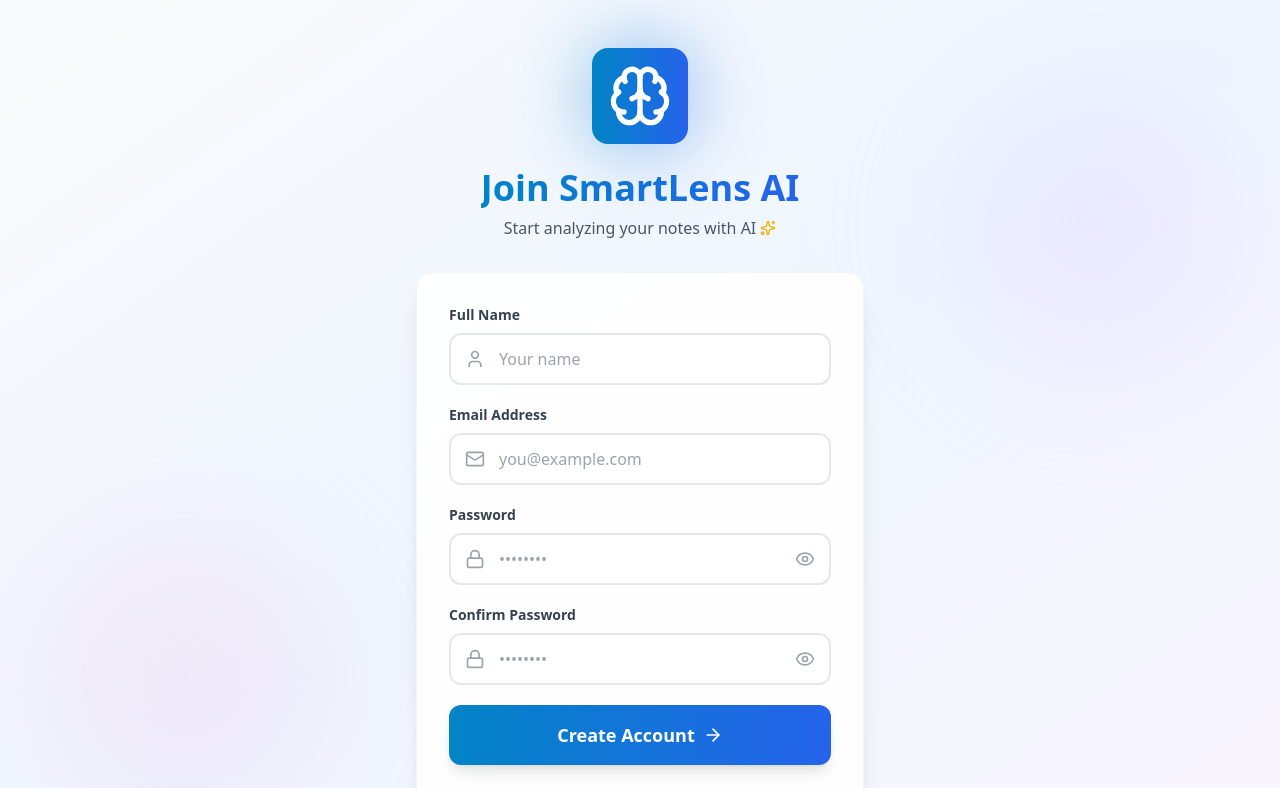
it: Signup Component › Form Validation › should show error when passwords do not match
Type "John Doe" into the field labelled "Full Name". click: (640, 359)
box: [449,333,831,385]
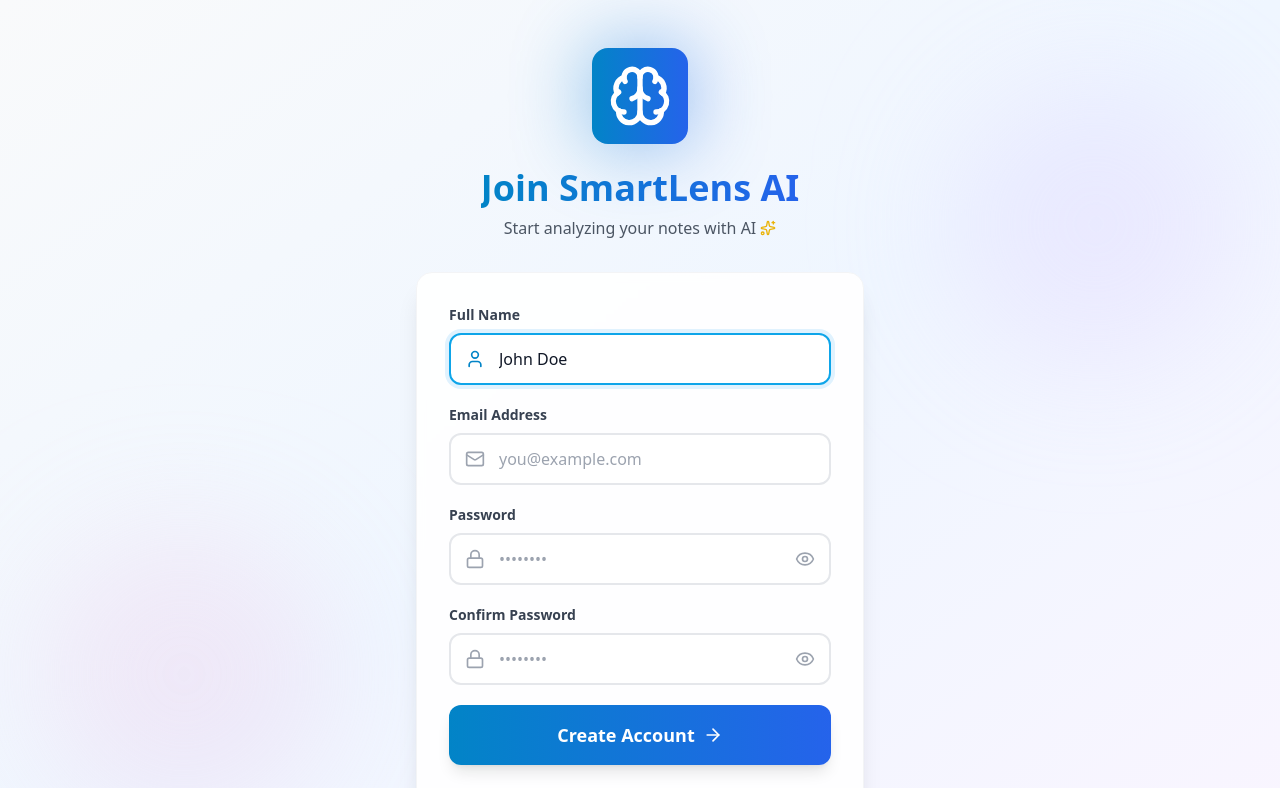
Type "test@example.com" into the field labelled "Email Address". click: (640, 459)
box: [449,433,831,485]
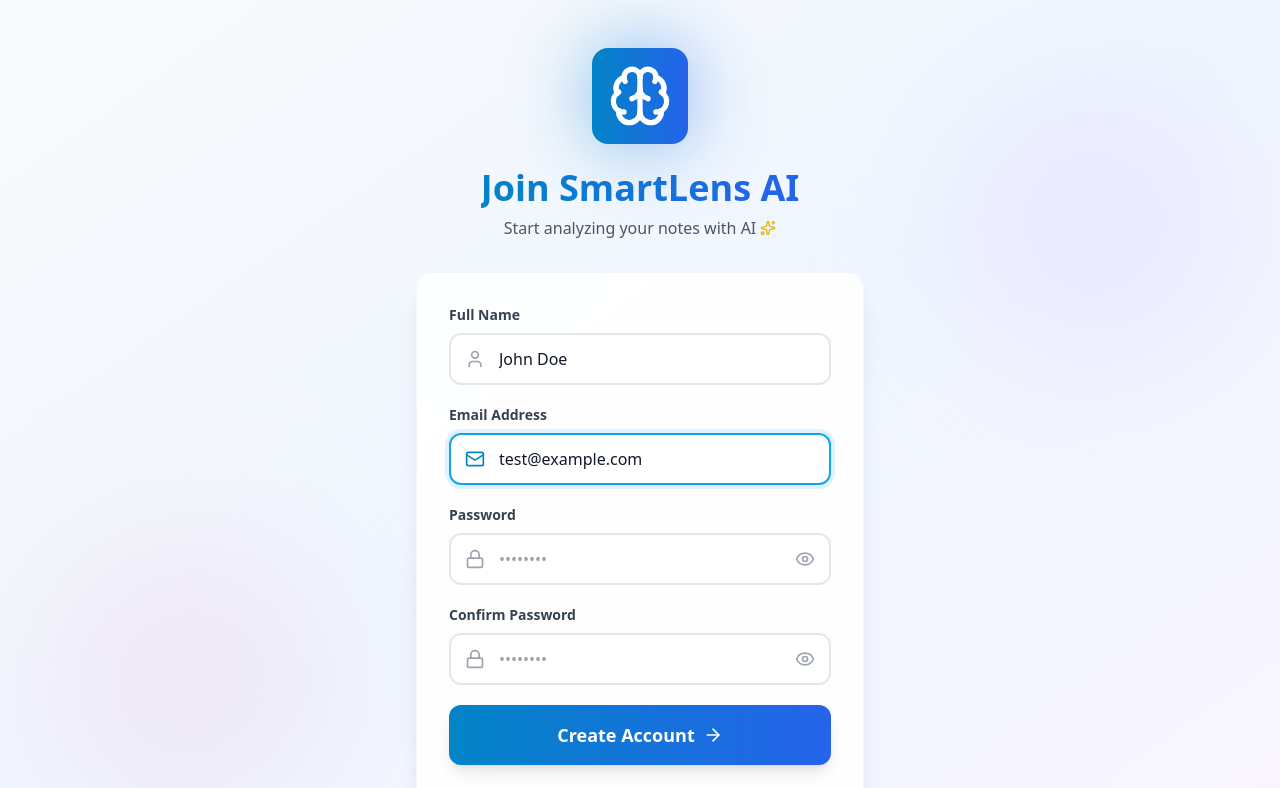
Type "password123" into the password field labelled "Password". click: (640, 559)
box: [449,533,831,585]
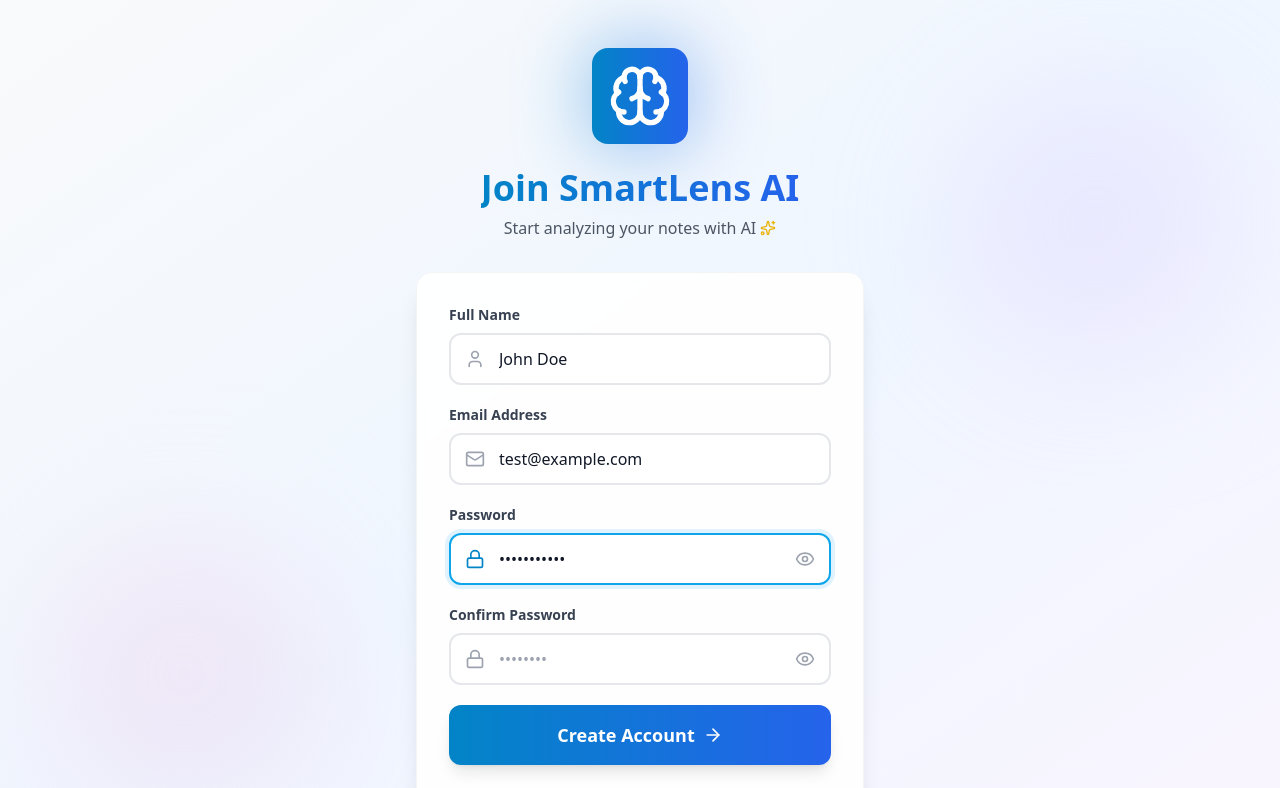
Type "different" into the password field labelled "Confirm Password". click: (640, 659)
box: [449,633,831,685]
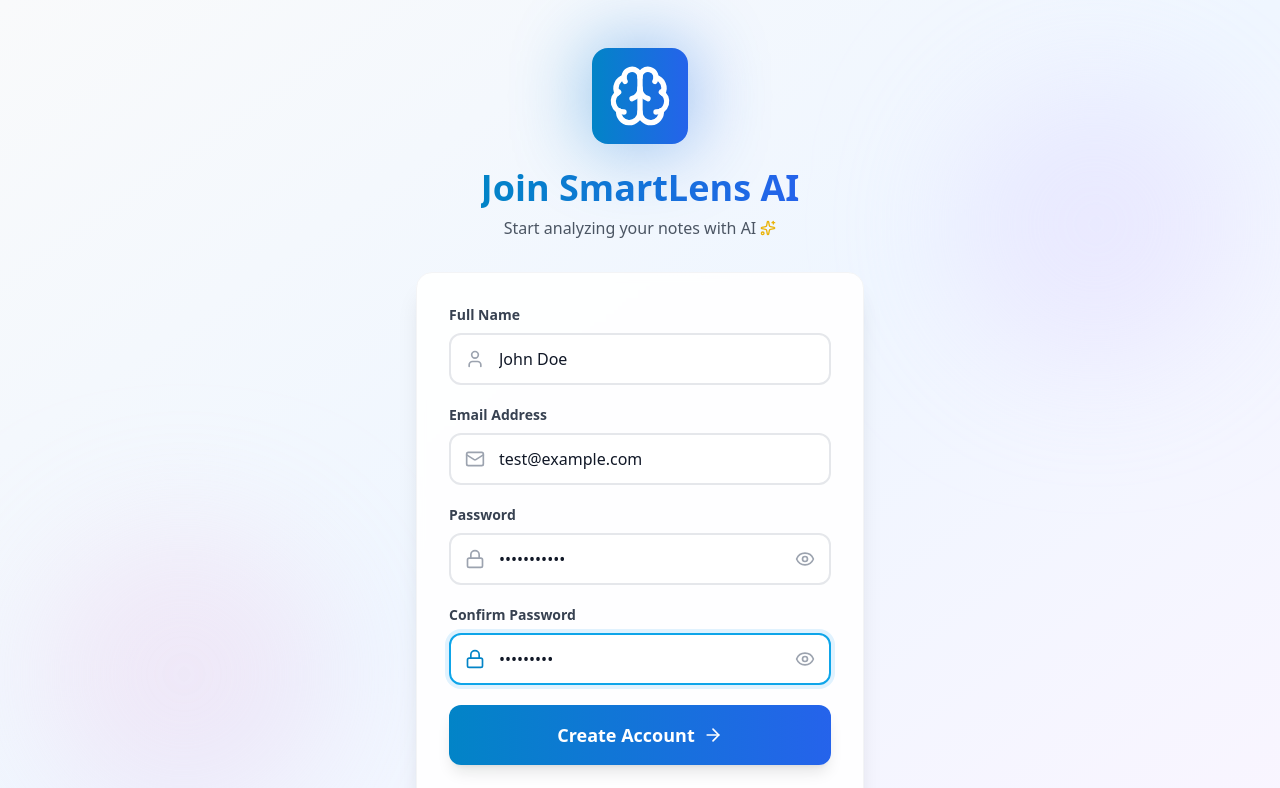
Click the button "Create Account". click: (640, 735)
box: [449,705,831,765]
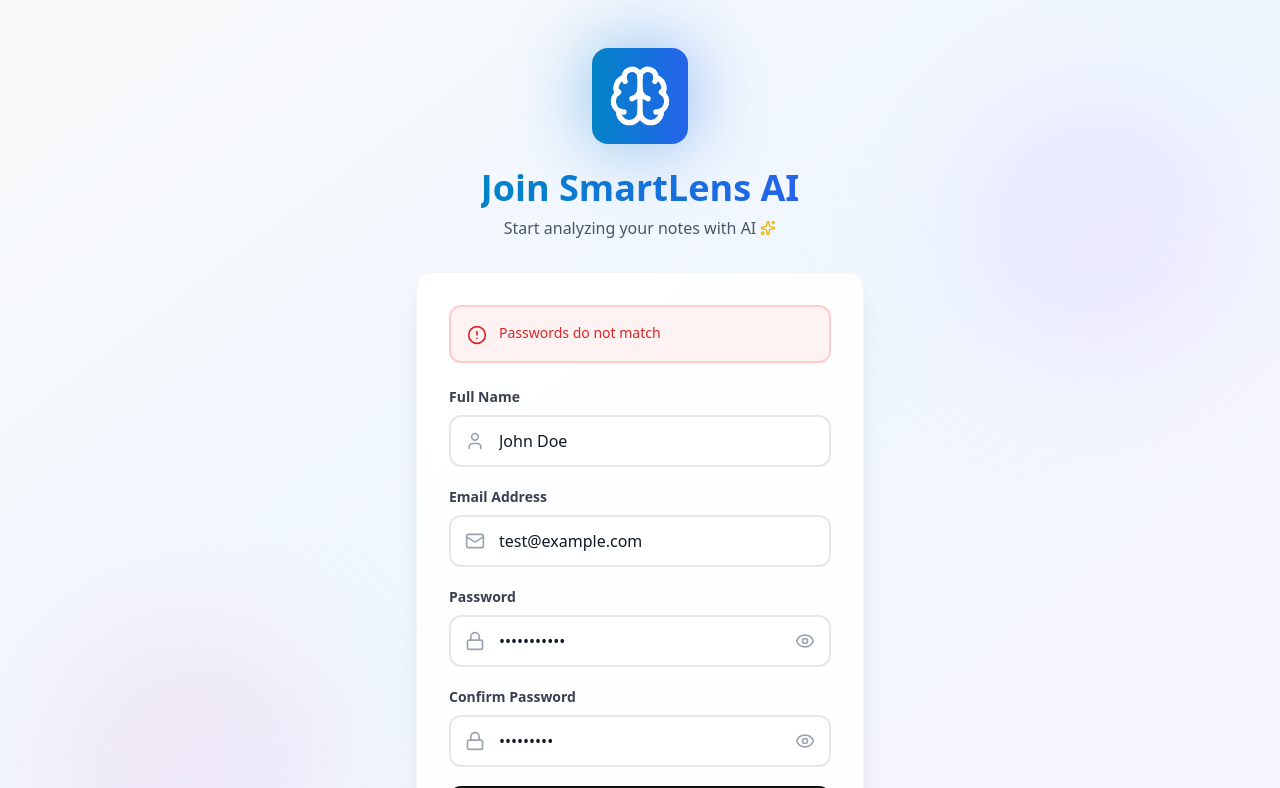
Check: the text "Passwords do not match" is shown, box [499,323,661,343]
